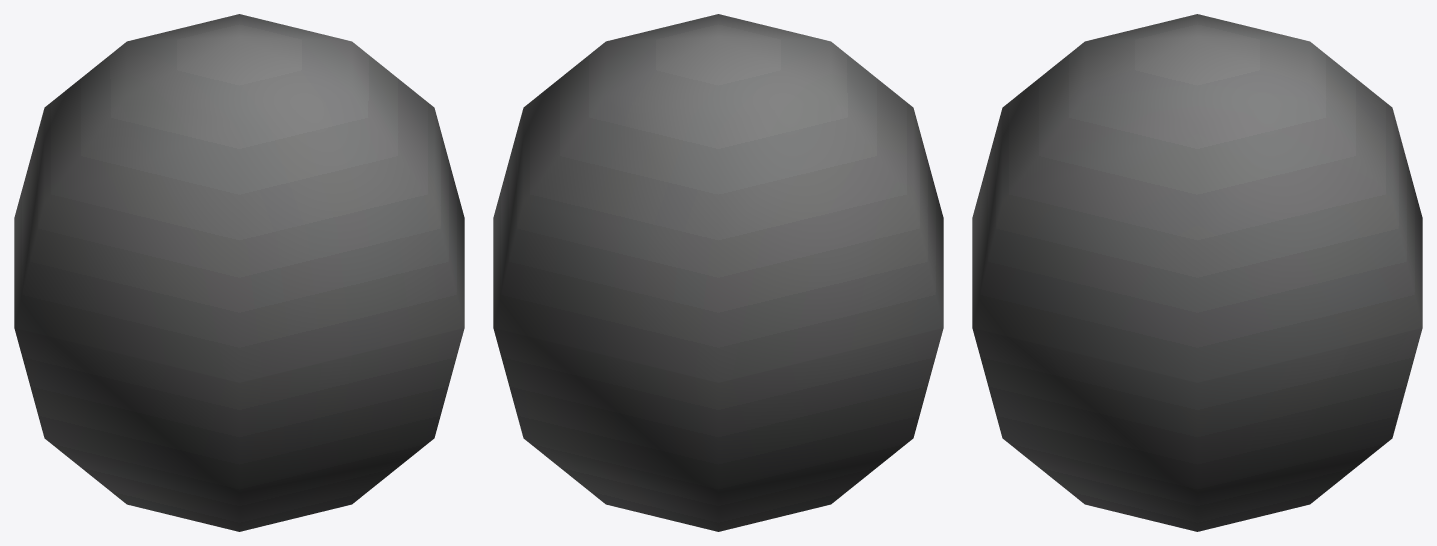
File: CannonBall.obj
3 views of the same model, side by side, from view 1: azimuth 30°, elevation 25°; view 2: azimuth 150°, elevation 25°; view 3: azimuth 270°, elevation 25° (orthographic).
Visible parts, largest first — view 1: Cannonball1; view 2: Cannonball1; view 3: Cannonball1.
Boxes of the visible parts, x1=… form: Cannonball1: x1=14, y1=14, x2=464, y2=531; Cannonball1: x1=493, y1=14, x2=943, y2=531; Cannonball1: x1=972, y1=14, x2=1422, y2=531.
Bounding box in the file's own units: 1.24 × 1.24 × 1.07.
Materials: 1 (1 with a texture image).
